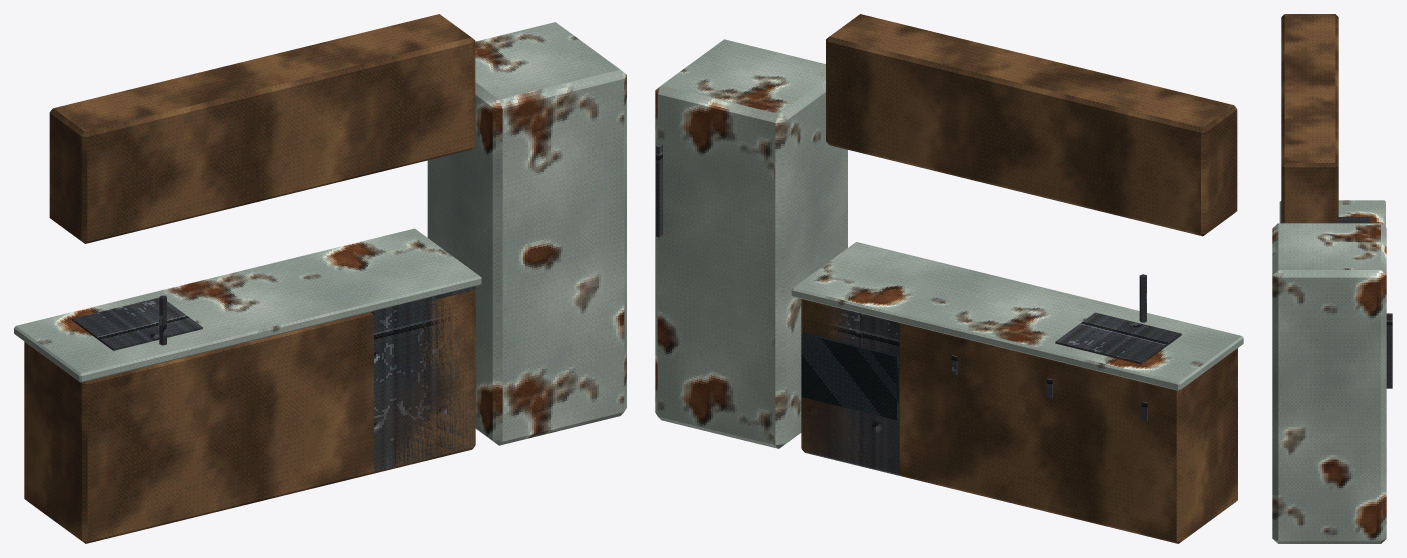
The model's file is int_kitchen.glb.
3 renders of one model, left to right at view 1: azimuth 30°, elevation 25°; view 2: azimuth 150°, elevation 25°; view 3: azimuth 270°, elevation 25°, orthographic. The views are drawn at different scales.
Visible parts, largest first — view 1: int_kitchen_mesh; view 2: int_kitchen_mesh; view 3: int_kitchen_mesh.
Part boxes in pixels (<box>): int_kitchen_mesh: <box>14,14,626,543</box>; int_kitchen_mesh: <box>655,14,1243,543</box>; int_kitchen_mesh: <box>1272,14,1392,543</box>.
Size of what is drawn, in the model's own units: 3.05 by 2.2 by 0.735.
5 materials, 5 textured.
